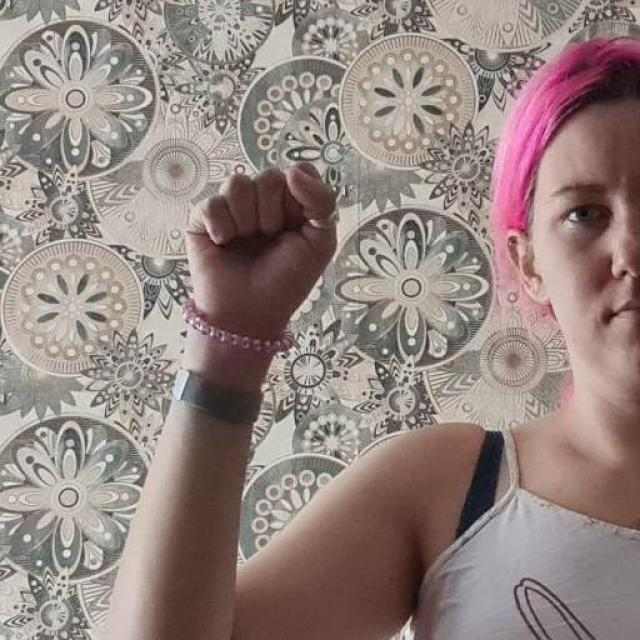hand: (182, 160, 338, 341)
